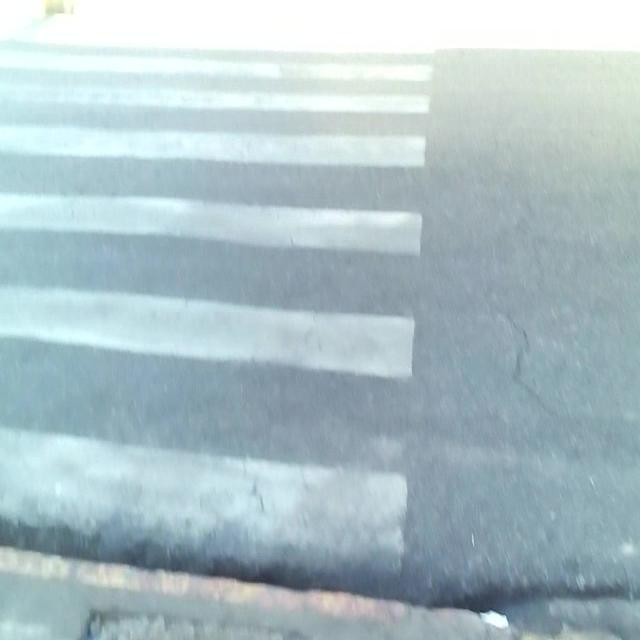crosswalk: (0, 42, 436, 602)
